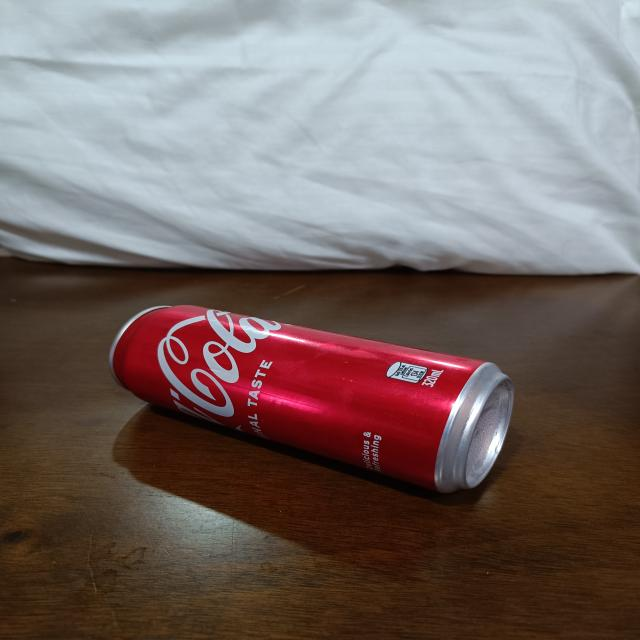coke: (104, 303, 508, 492)
